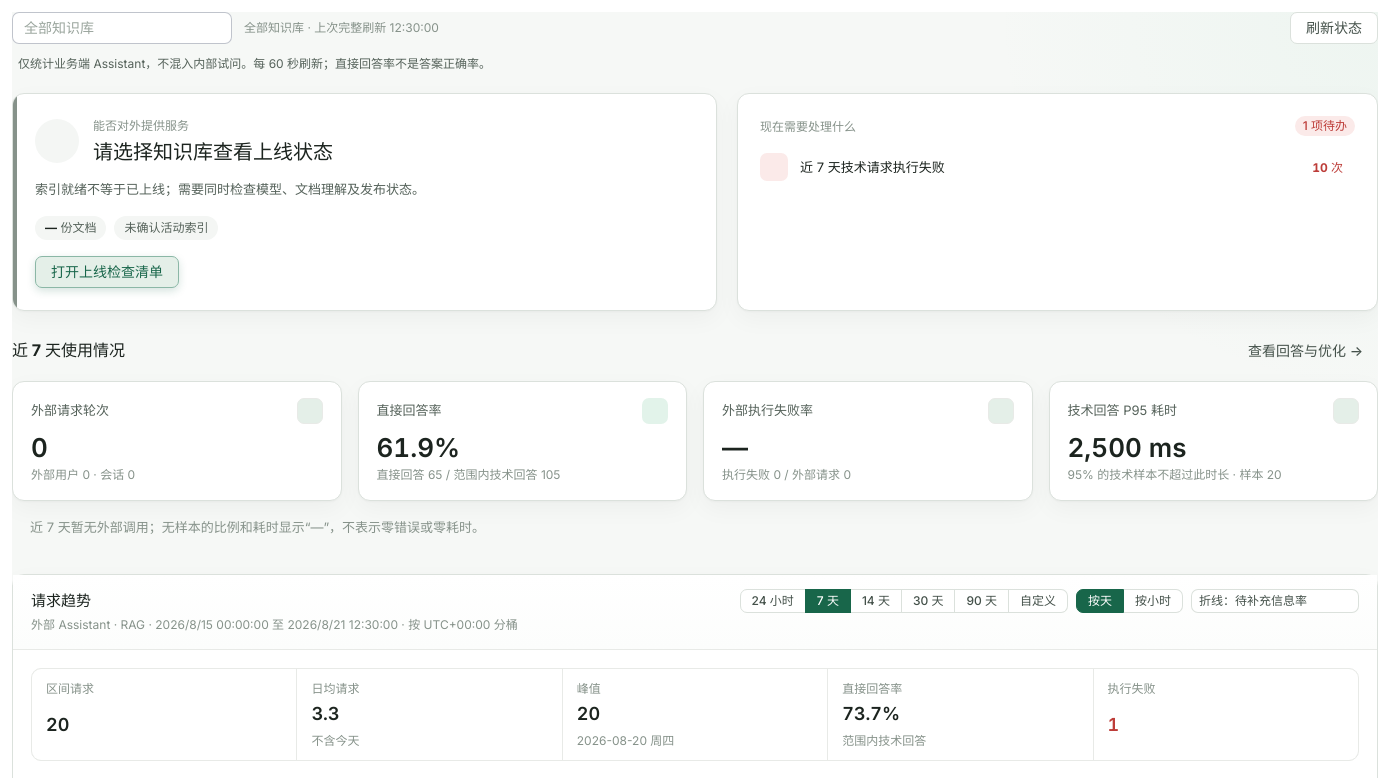
Test: DashboardView metrics › offers hourly buckets for a 7-day range and day buckets only beyond 7 days
Click the radio button labelled "按小时" at coordinates (1154, 601), box [1124, 589, 1183, 613]
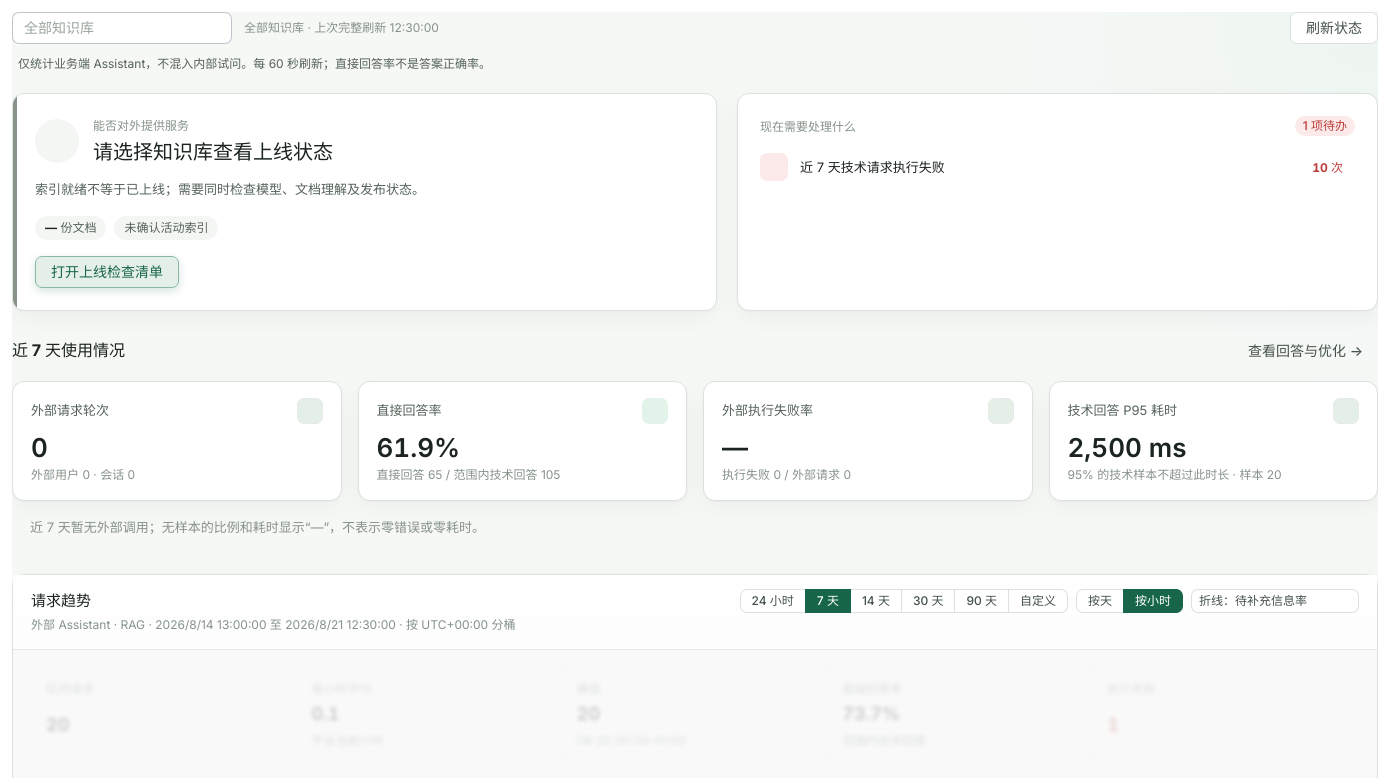
Click the radio button labelled "30 天" at coordinates (929, 601), box [902, 589, 956, 613]
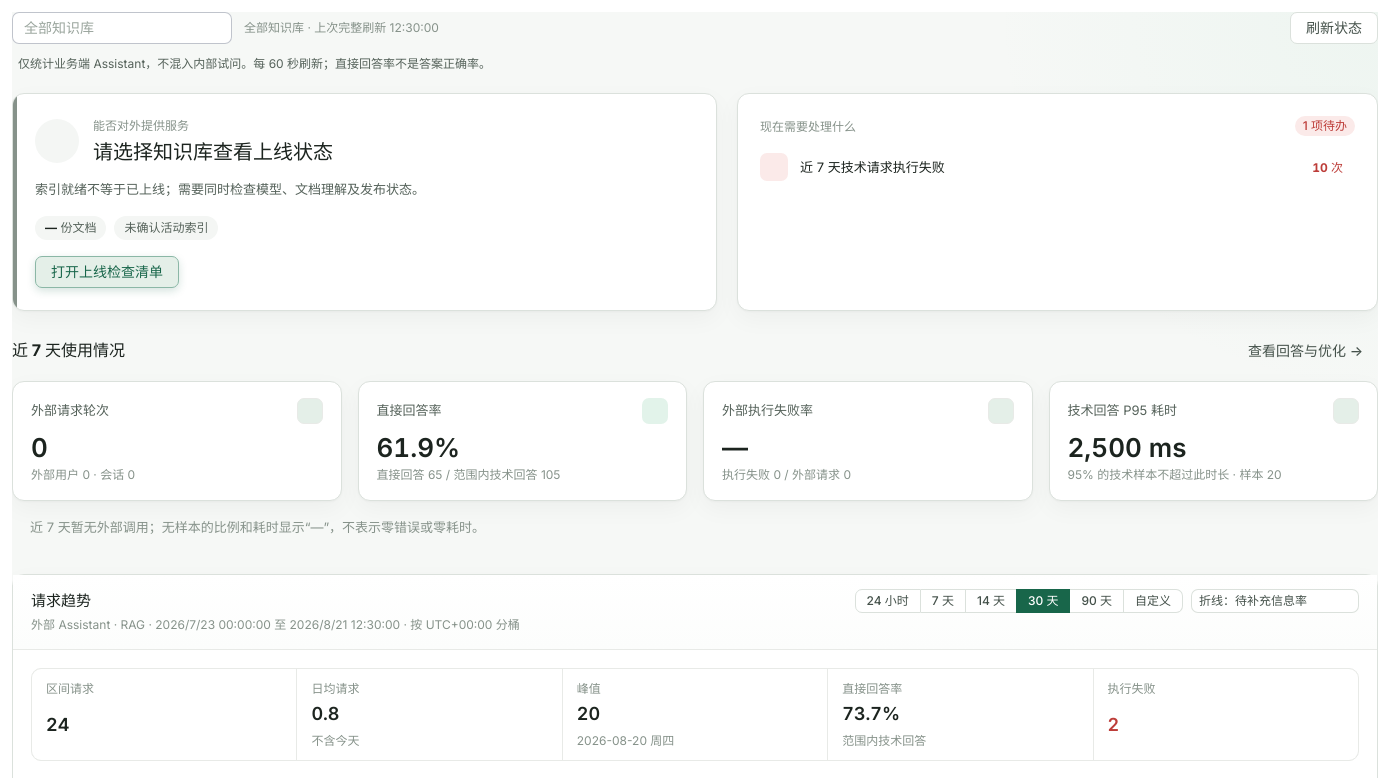
Expected: the element with class "trend-summary" shows "73.7%", [842, 703, 900, 724]
Expected: the element with class "trend-summary" shows "24", [46, 714, 69, 735]
